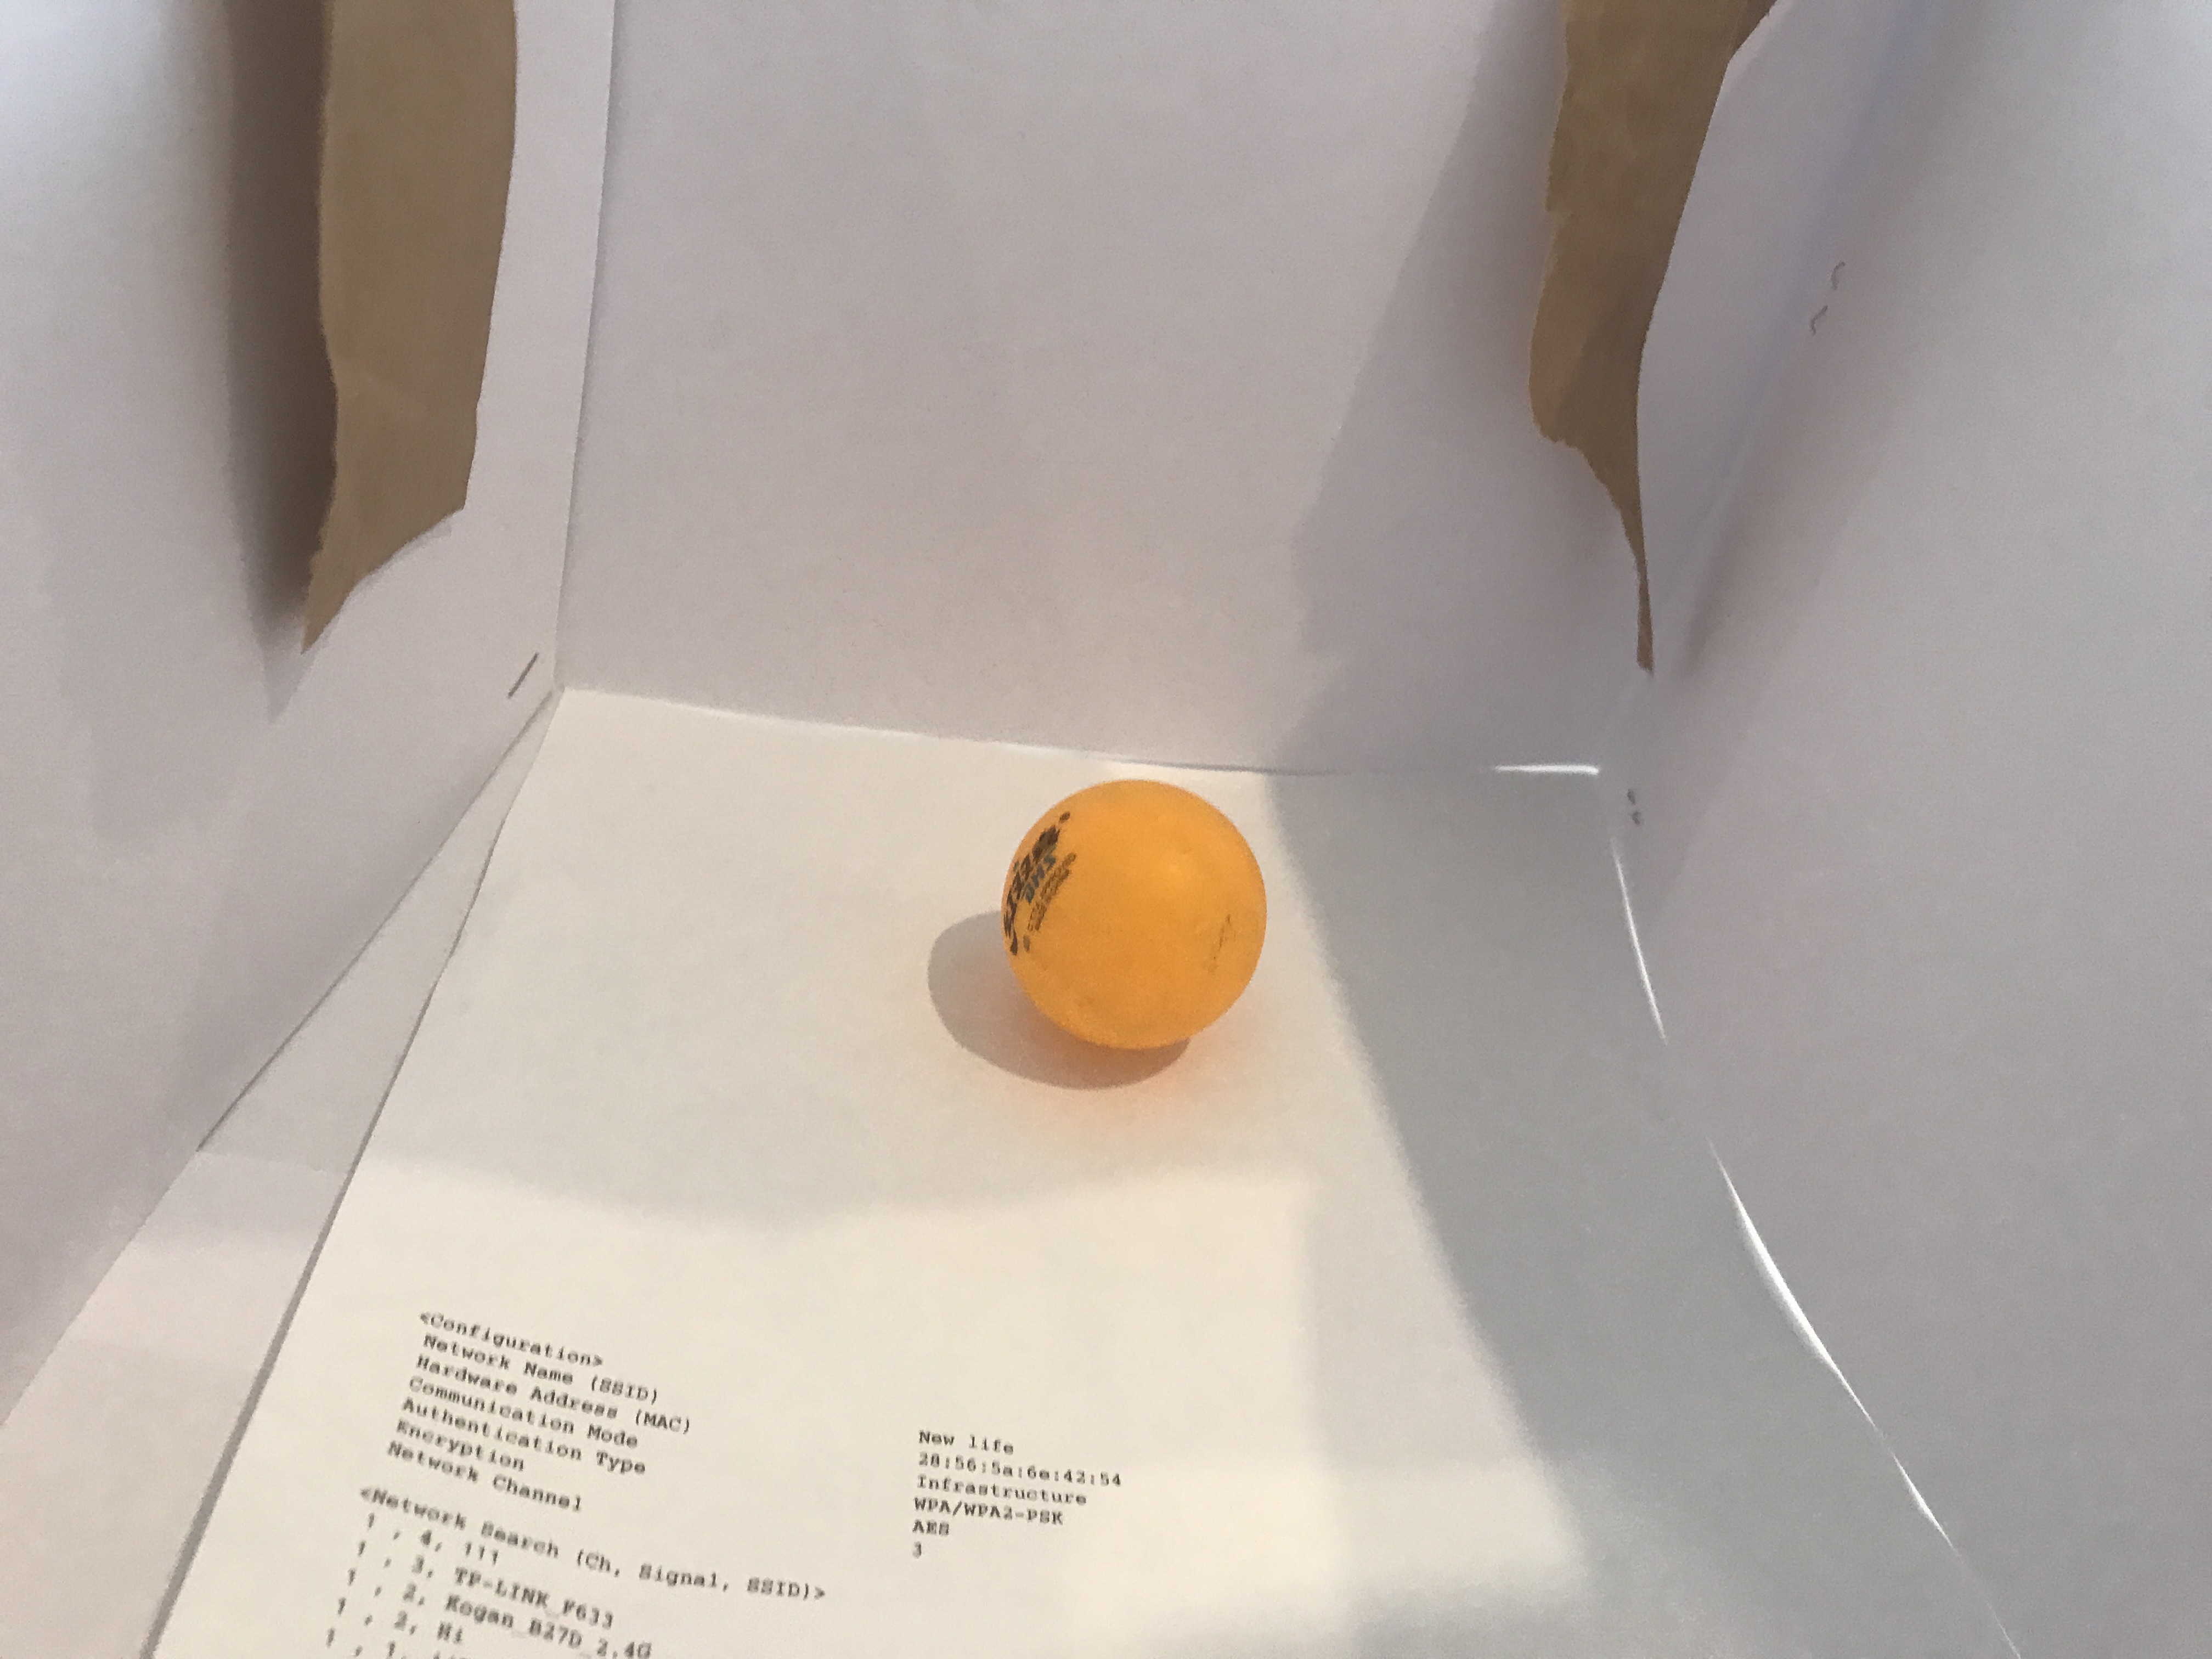pp: (988, 769, 1289, 1066)
